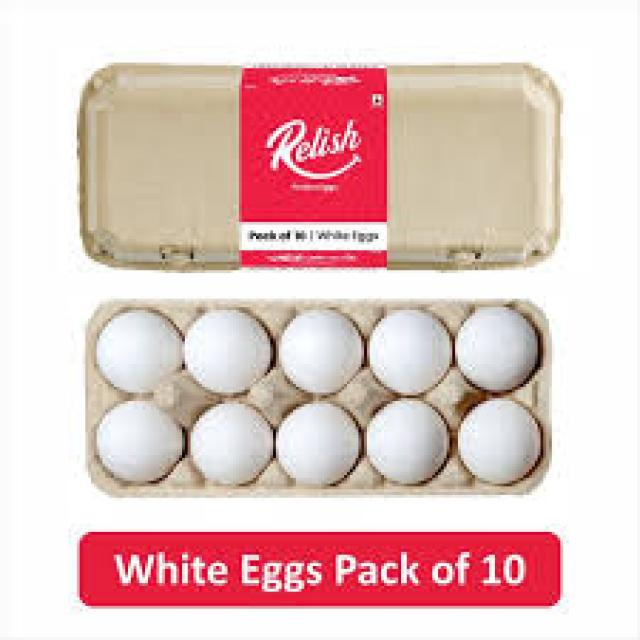White Egg: (455, 396, 548, 489), (184, 306, 276, 399), (94, 395, 188, 485), (276, 397, 364, 492), (366, 397, 454, 491), (187, 400, 275, 491), (92, 309, 184, 396), (368, 307, 455, 396), (458, 304, 542, 396), (278, 308, 365, 396)
